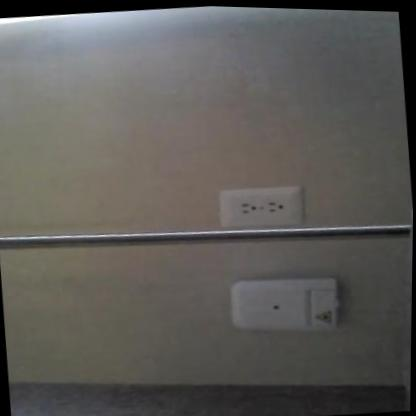OUTLET: (216, 183, 304, 231)
